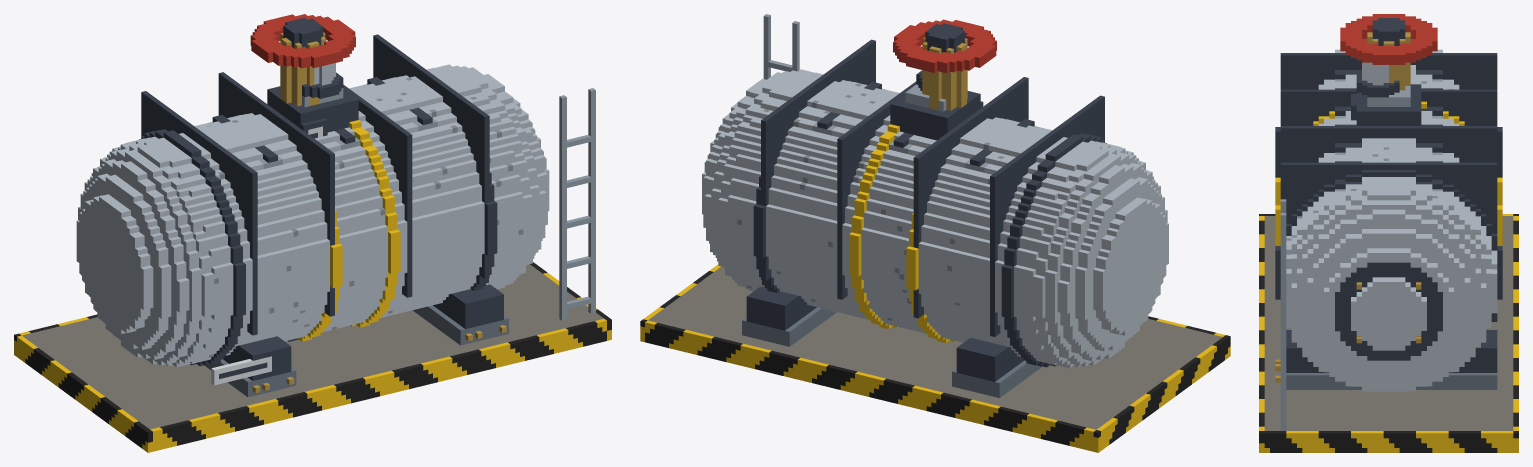
File: gas_tank.obj
3 renders of one model, left to right at view 1: azimuth 30°, elevation 25°; view 2: azimuth 150°, elevation 25°; view 3: azimuth 270°, elevation 25°, orthographic. The views are drawn at different scales.
Parts seen in each view (by area): view 1: gas_tank; view 2: gas_tank; view 3: gas_tank.
Part boxes in pixels (x1,y1,x2,y2): gas_tank: [14, 14, 611, 452]; gas_tank: [640, 14, 1230, 452]; gas_tank: [1259, 14, 1518, 452].
Bounding box in the file's own units: 3 × 2 × 1.5.
